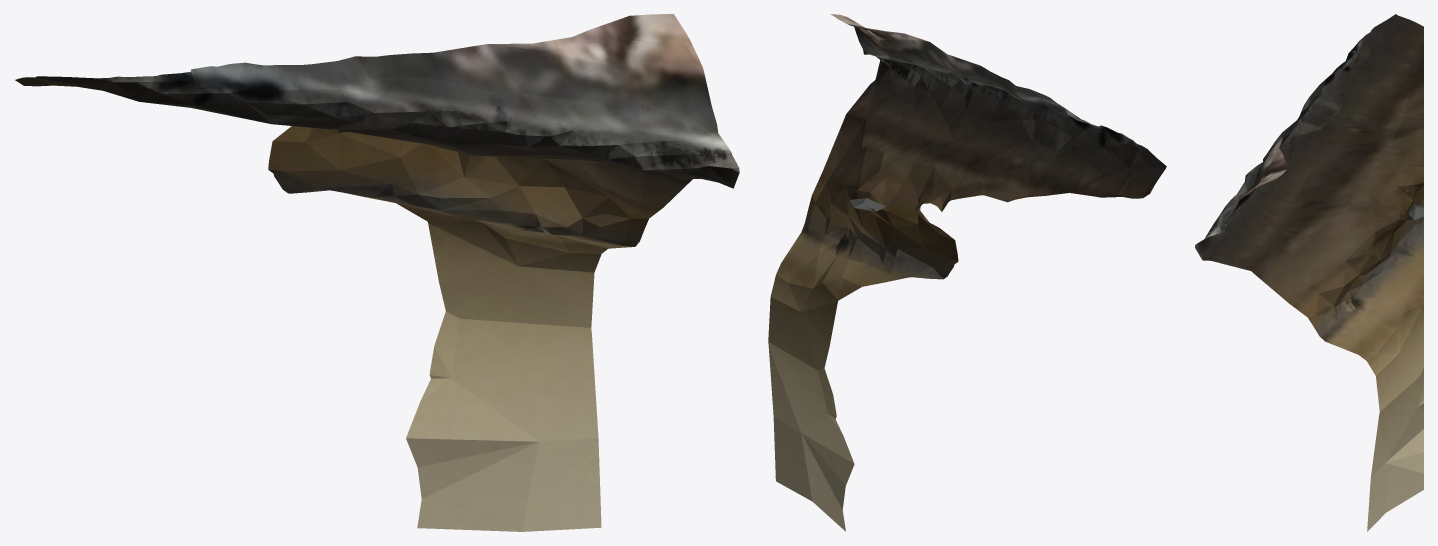
3 views of the same model, side by side, from view 1: azimuth 30°, elevation 25°; view 2: azimuth 150°, elevation 25°; view 3: azimuth 270°, elevation 25° (orthographic). The views are drawn at different scales.
Size of the model in its own units: 0.8374 by 0.8374 by 0.4919.
2 materials, 2 textured.
